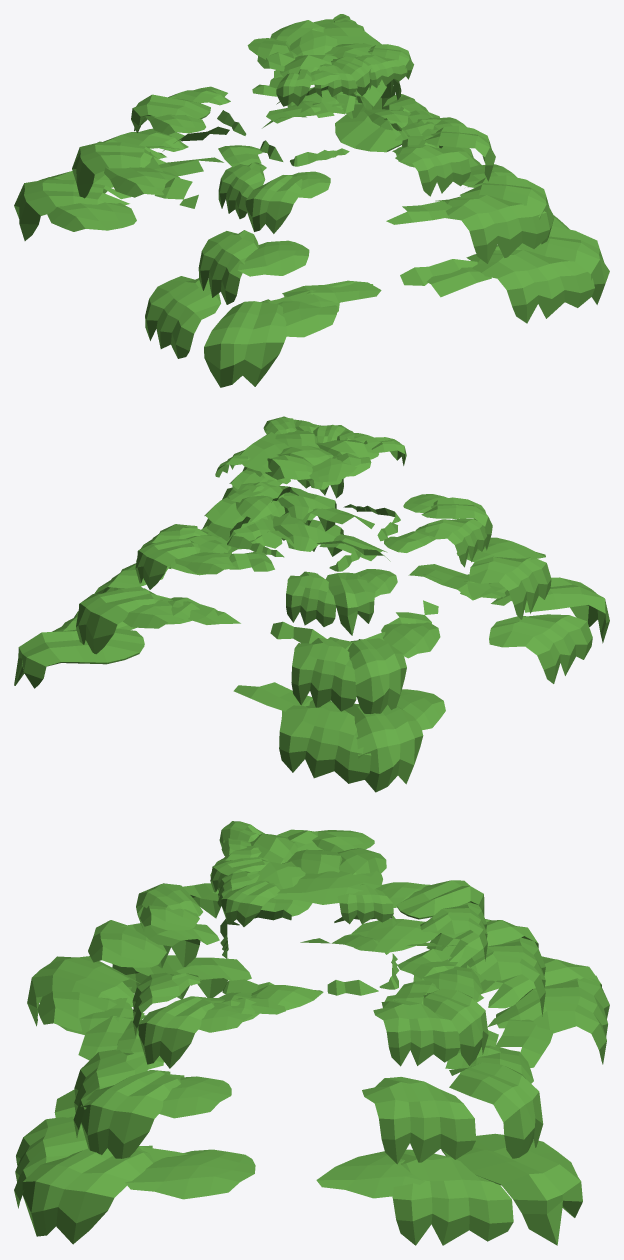
File: TempleGrassMesh.fbx
3 views of the same model, one above another, from view 1: azimuth 30°, elevation 25°; view 2: azimuth 150°, elevation 25°; view 3: azimuth 270°, elevation 25° (orthographic). The views are drawn at different scales.
Parts seen in each view (by area): view 1: Grass13; view 2: Grass13; view 3: Grass13.
Boxes of the visible parts, box(x1,y1,x2,y2) form: Grass13: box(14, 14, 609, 387); Grass13: box(14, 416, 609, 792); Grass13: box(14, 821, 609, 1245).
Bounding box in the file's own units: 33.13 × 17.43 × 33.37.
